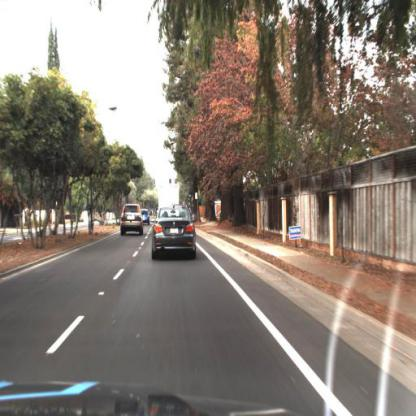car: (149, 202, 201, 266), (152, 182, 186, 215), (119, 204, 146, 239), (140, 205, 152, 231)
truck: (157, 182, 183, 232)
